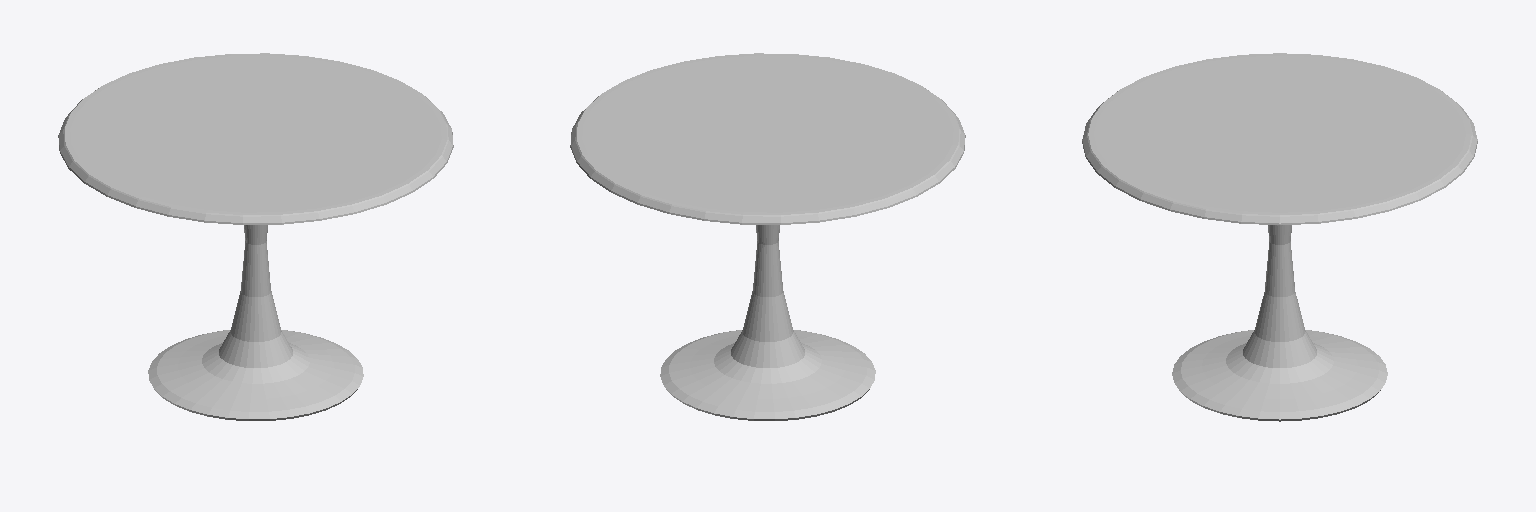
The model's file is Table_002.obj.
3 views of the same model, side by side, from view 1: azimuth 30°, elevation 25°; view 2: azimuth 150°, elevation 25°; view 3: azimuth 270°, elevation 25° (orthographic).
Visible parts, largest first — view 1: table_002; view 2: table_002; view 3: table_002.
Boxes of the visible parts, <box> form: table_002: <box>58,53,453,420</box>; table_002: <box>570,53,965,420</box>; table_002: <box>1082,53,1477,421</box>.
Size of the model in its own units: 0.9806 by 0.6654 by 0.9806.